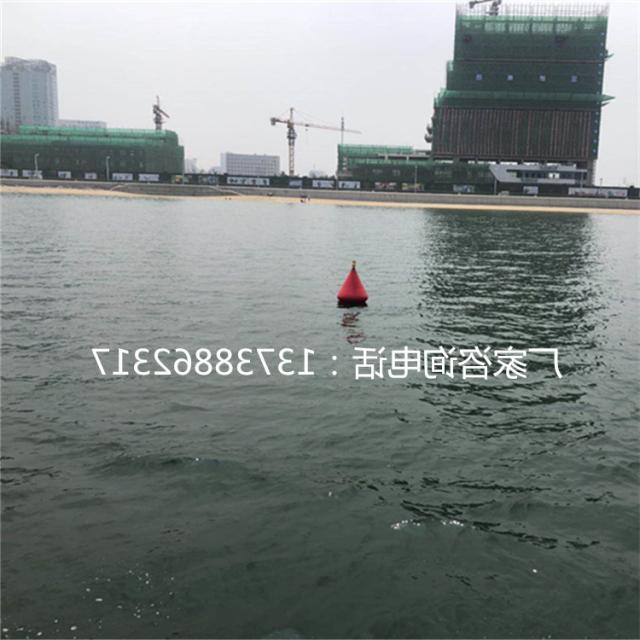buoy: (329, 258, 374, 308)
